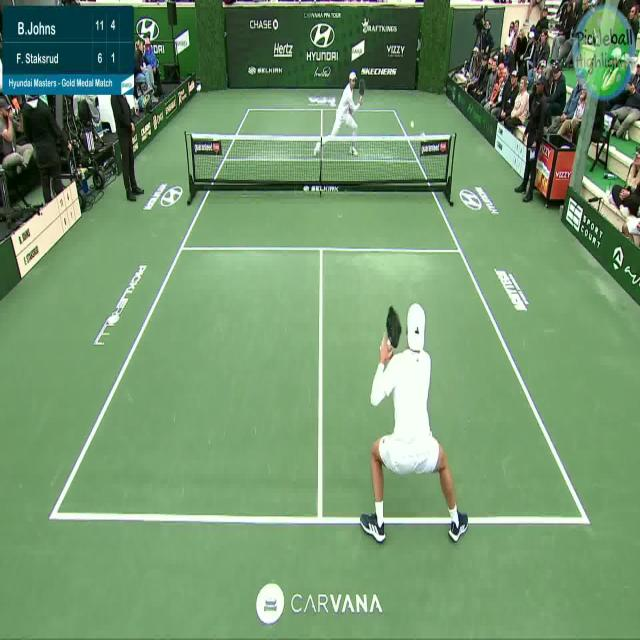Court: (54, 107, 586, 521)
ball: (404, 115, 423, 134)
